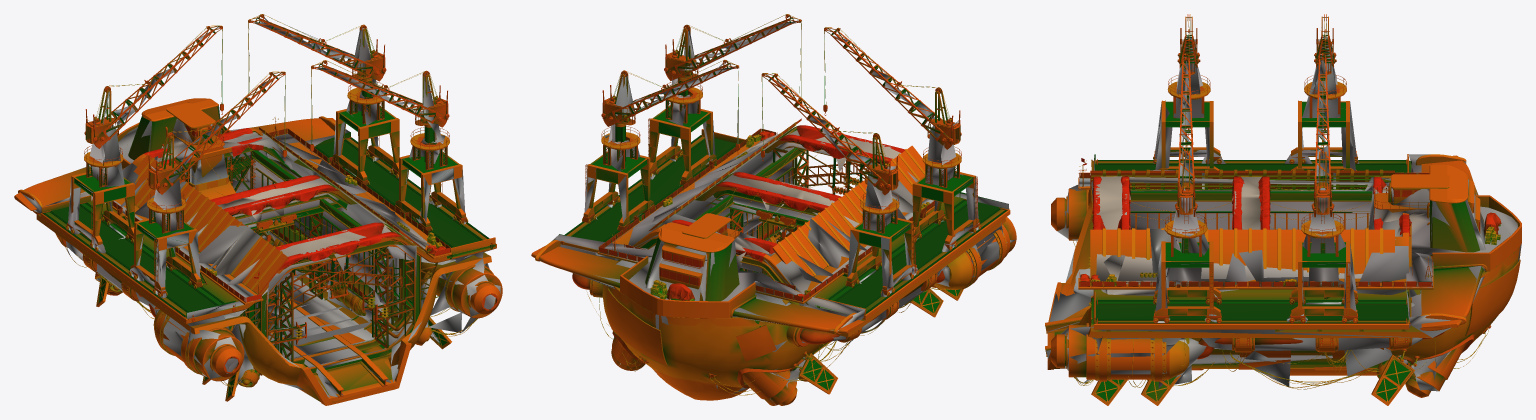
File: KB3D_CSK_BldgLgShipYard_A.glb
The picture shows the model from 3 angles, left to right: view 1: azimuth 30°, elevation 25°; view 2: azimuth 150°, elevation 25°; view 3: azimuth 270°, elevation 25°; orthographic projection. The views are drawn at different scales.
Visible parts, largest first — view 1: L0, L1, L2; view 2: L0, L1, L2; view 3: L0, L1, L2.
Boxes of the visible parts, <box> form: L0: <box>14,14,502,405</box>; L1: <box>15,15,498,405</box>; L2: <box>19,17,500,397</box>; L0: <box>531,14,1016,405</box>; L1: <box>532,15,1010,402</box>; L2: <box>539,21,1015,404</box>; L0: <box>1045,14,1521,405</box>; L1: <box>1045,17,1520,405</box>; L2: <box>1046,37,1521,391</box>.
Size of the model in its own units: 61.46 by 55.6 by 73.57.
